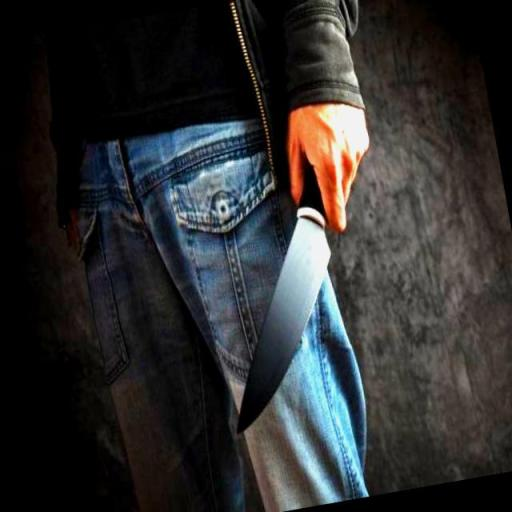knife: (190, 156, 360, 437)
